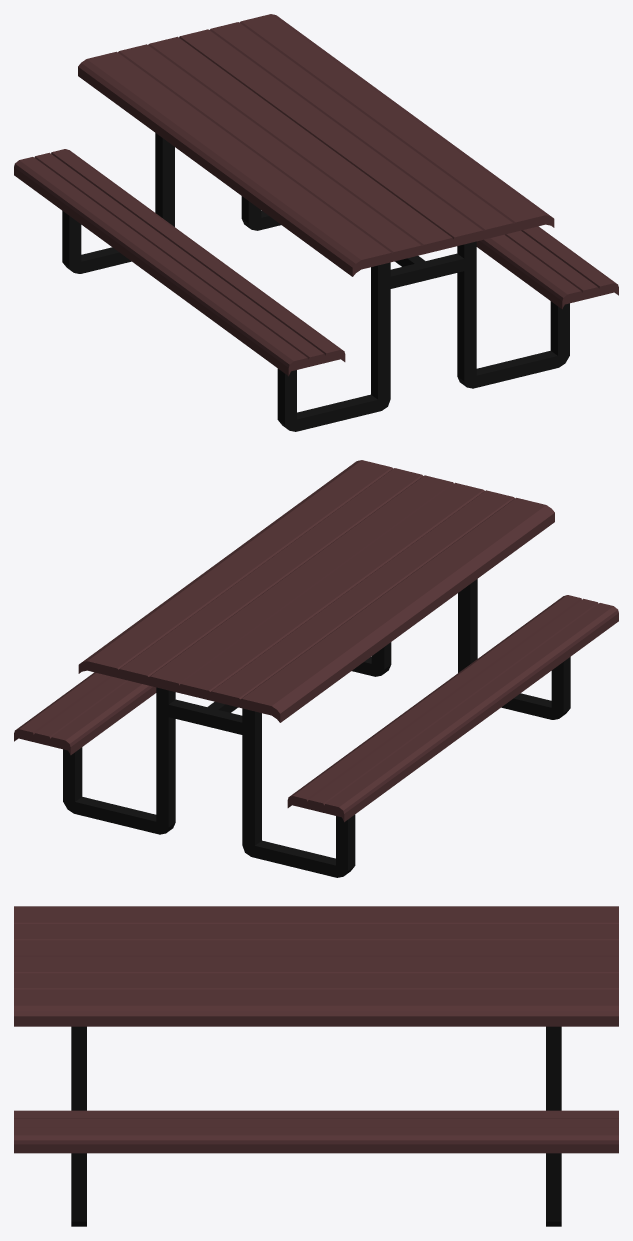
Rendered from bench.fbx.
The picture shows the model from 3 angles, top to bottom: view 1: azimuth 30°, elevation 25°; view 2: azimuth 150°, elevation 25°; view 3: azimuth 270°, elevation 25°; orthographic projection. The views are drawn at different scales.
Visible parts, largest first — view 1: 立方体, 立方体.002, 立方体.001, 立方体.003; view 2: 立方体, 立方体.002, 立方体.001, 立方体.003; view 3: 立方体, 立方体.003, 立方体.001.
Boxes of the visible parts, <box> form: 立方体: <box>78,14,554,276</box>; 立方体.002: <box>14,149,345,376</box>; 立方体.001: <box>62,133,569,431</box>; 立方体.003: <box>476,226,618,309</box>; 立方体: <box>78,460,554,722</box>; 立方体.002: <box>287,595,618,822</box>; 立方体.001: <box>63,579,570,877</box>; 立方体.003: <box>14,672,156,755</box>; 立方体: <box>14,906,618,1026</box>; 立方体.003: <box>14,1110,618,1153</box>; 立方体.001: <box>71,1026,561,1226</box>.
Size of the model in its own units: 1.58 by 0.8265 by 2.27.
